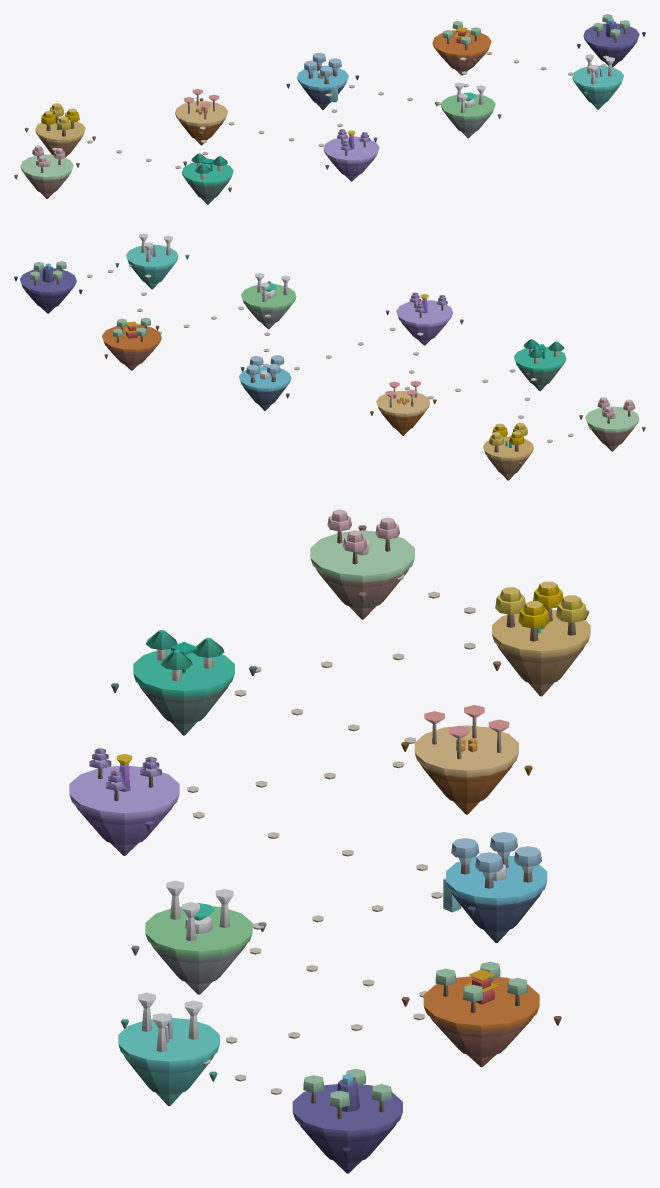
File: islands.glb
3 renders of one model, top to bottom at view 1: azimuth 30°, elevation 25°; view 2: azimuth 150°, elevation 25°; view 3: azimuth 270°, elevation 25°, orthographic. The views are drawn at different scales.
Parts seen in each view (by area): view 1: ArchipelagoMesh; view 2: ArchipelagoMesh; view 3: ArchipelagoMesh.
Part boxes in pixels (x1,y1,x2,y2): ArchipelagoMesh: (14, 14, 645, 204); ArchipelagoMesh: (14, 233, 645, 480); ArchipelagoMesh: (69, 509, 590, 1173).
Bounding box in the file's own units: 97.34 × 9.2 × 35.02.
